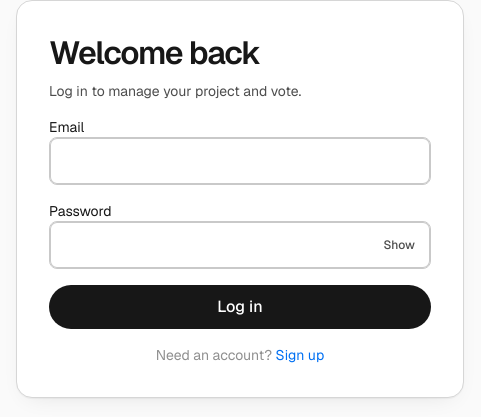
Test: AuthForm › toggles password visibility without changing the value or submitting
This screenshot has width=481, height=417.
Type "secret1" into the password field labelled "Password" at (240, 245), box x1=49 y1=221 x2=431 y2=269
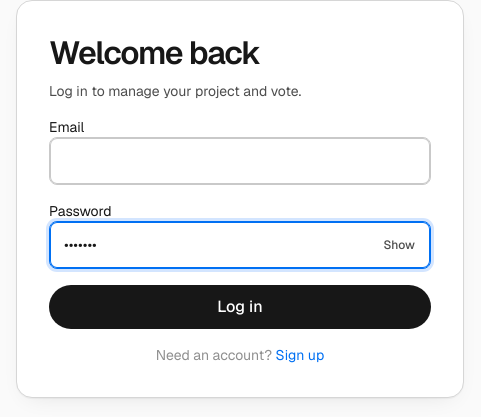
Click the button with aria-label "Show password" at (399, 245), box x1=375 y1=233 x2=423 y2=257
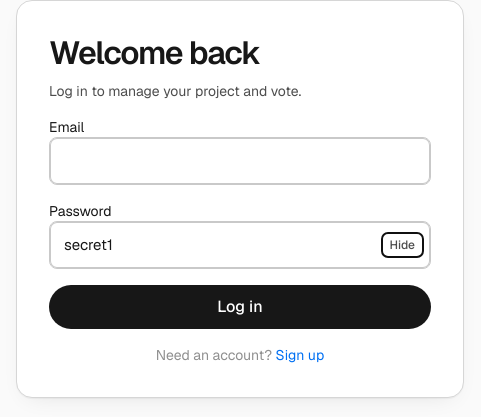
Expected: the field labelled "Password" shows its text, x1=49 y1=221 x2=431 y2=269
Click the button with aria-label "Hide password" at (402, 245), box x1=382 y1=233 x2=423 y2=257
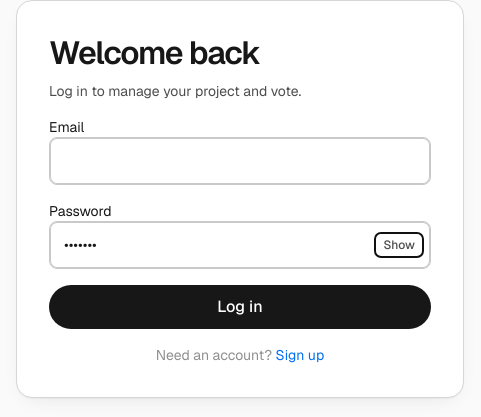
Expected: the password field labelled "Password" hides its text, x1=49 y1=221 x2=431 y2=269
